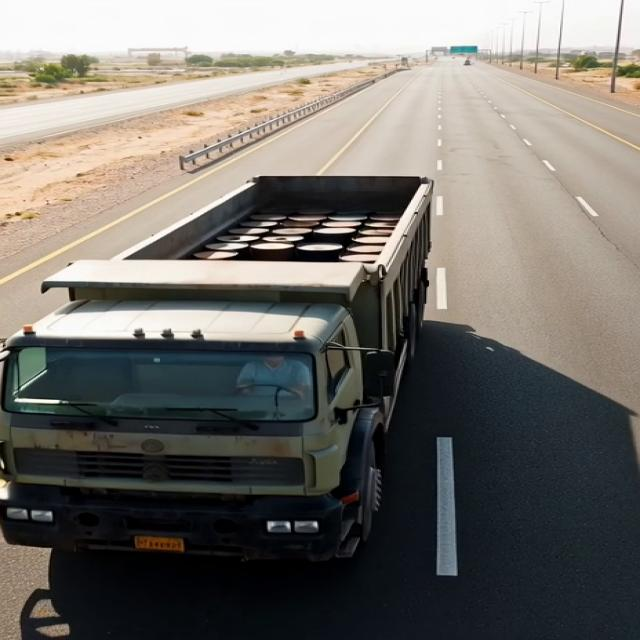Box: (52, 172, 453, 299)
Truck: (1, 140, 484, 566)
